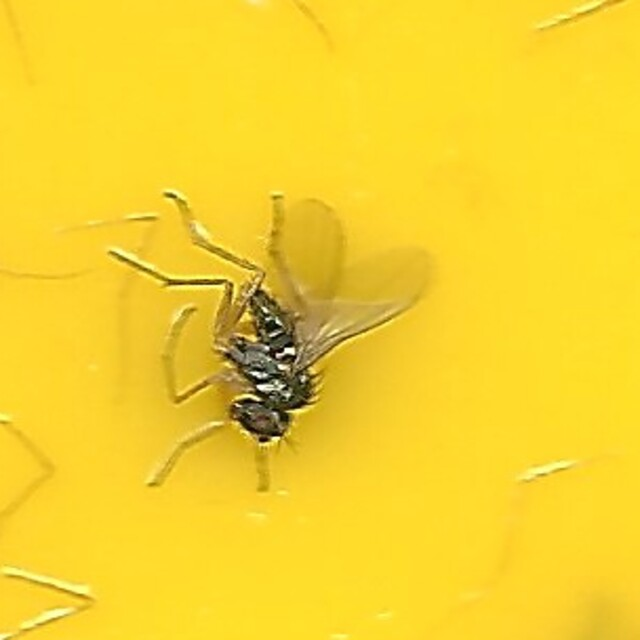Brachycera: (211, 185, 429, 455)
